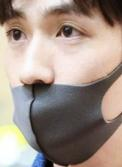mask_weared_incorrect: (1, 1, 122, 167)
